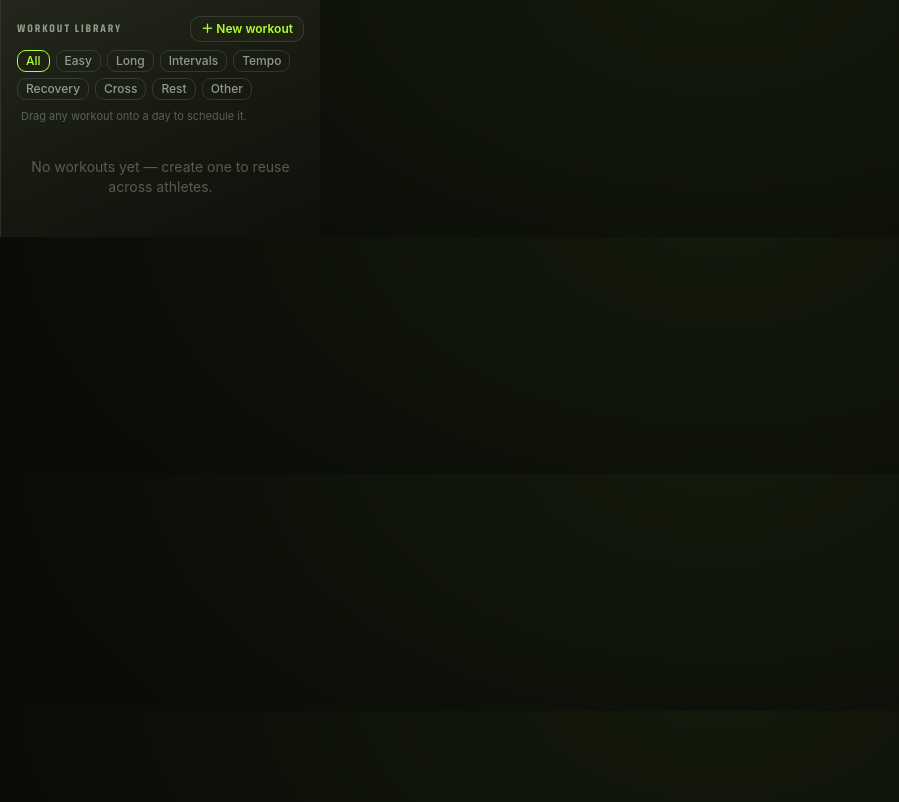
Test: New workout opens the full-panel editor (same view as the day editor)
The width and height of the screenshot is (899, 802).
Step 1. Click the button "＋ New workout" → (247, 29), box [190,16,304,42]
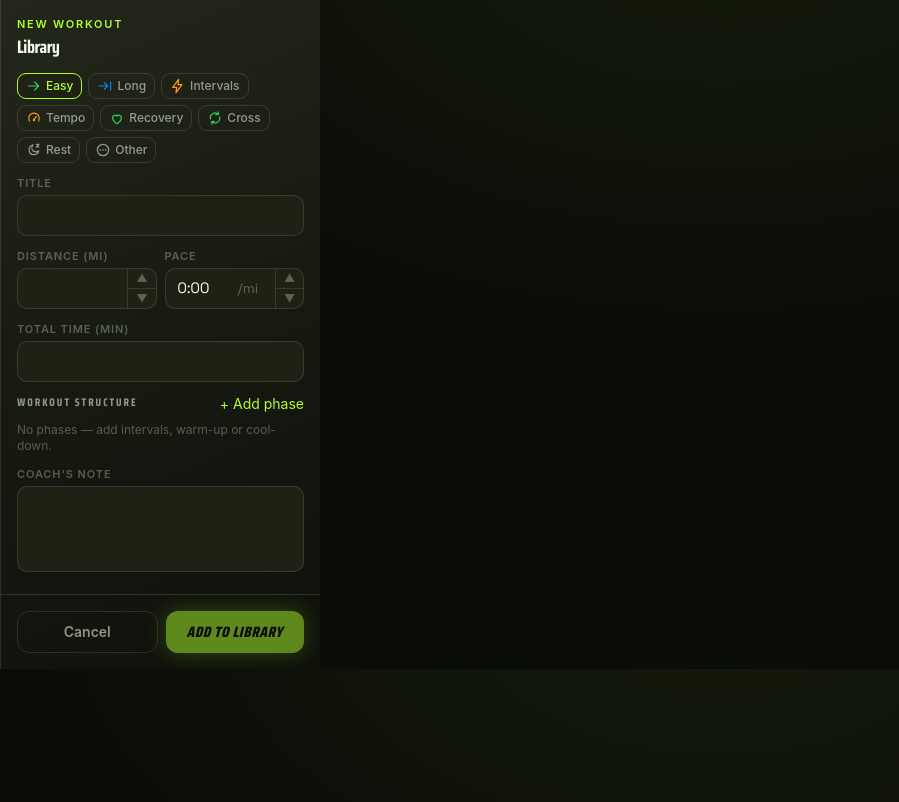
Check: the field named "Title" is shown, box [17,195,304,236]
Check: the text "Workout structure" is shown, box [17,395,138,412]
Check: the button "Add to library" is shown, box [166,610,304,653]
